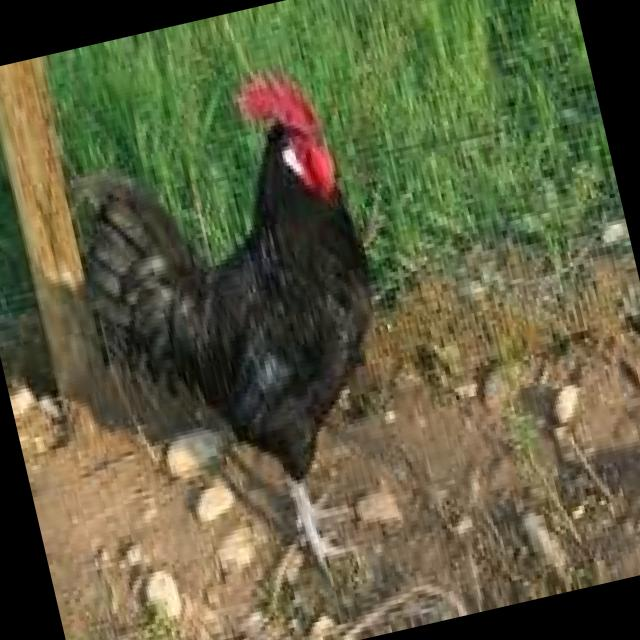animal: (0, 50, 441, 640)
